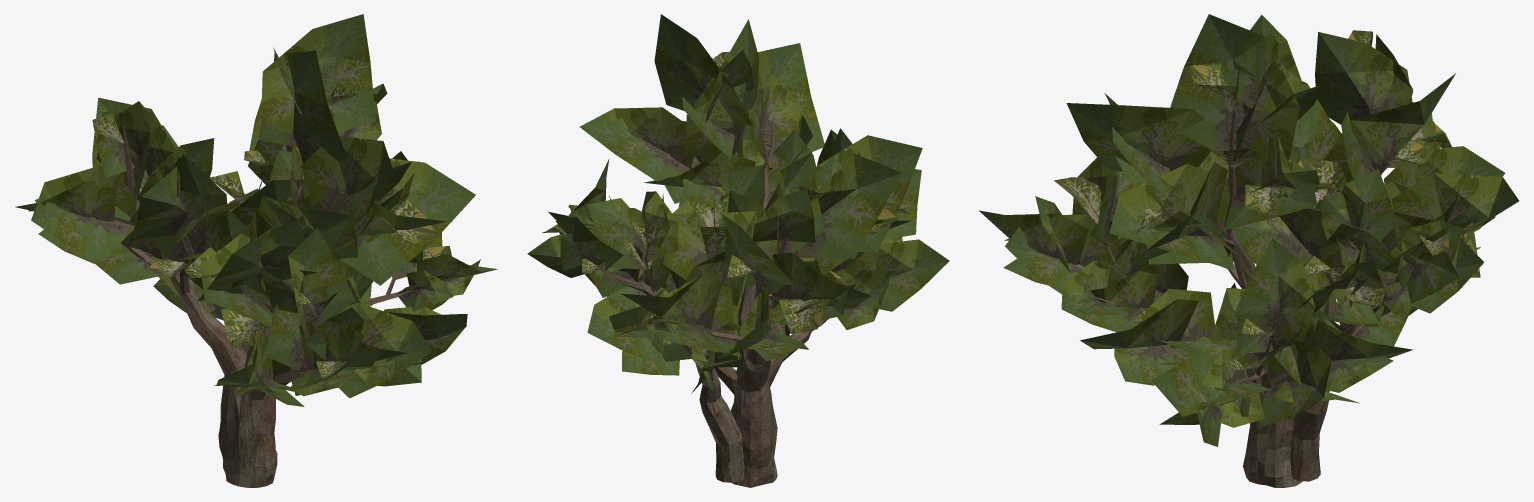
Rendered from House59.fbx.
3 renders of one model, left to right at view 1: azimuth 30°, elevation 25°; view 2: azimuth 150°, elevation 25°; view 3: azimuth 270°, elevation 25°, orthographic. The views are drawn at different scales.
Visible parts, largest first — view 1: AT_BGAgo_TrH03.mo; view 2: AT_BGAgo_TrH03.mo; view 3: AT_BGAgo_TrH03.mo.
Part boxes in pixels (box(x1,y1,x2,y2)): AT_BGAgo_TrH03.mo: box(15, 14, 497, 487); AT_BGAgo_TrH03.mo: box(527, 14, 949, 487); AT_BGAgo_TrH03.mo: box(979, 14, 1519, 487).
Bounding box in the file's own units: 3079 × 3343 × 3382.
